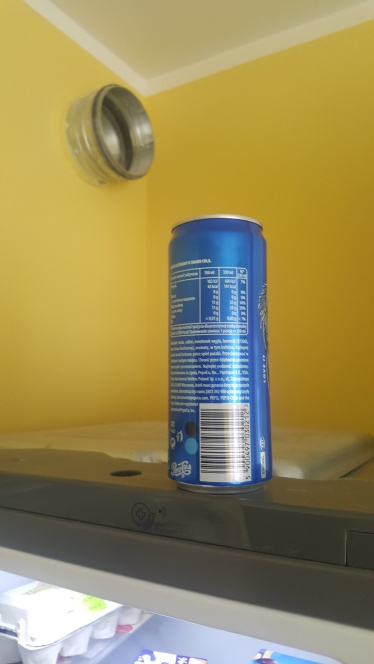pepsi: (165, 207, 282, 498)
